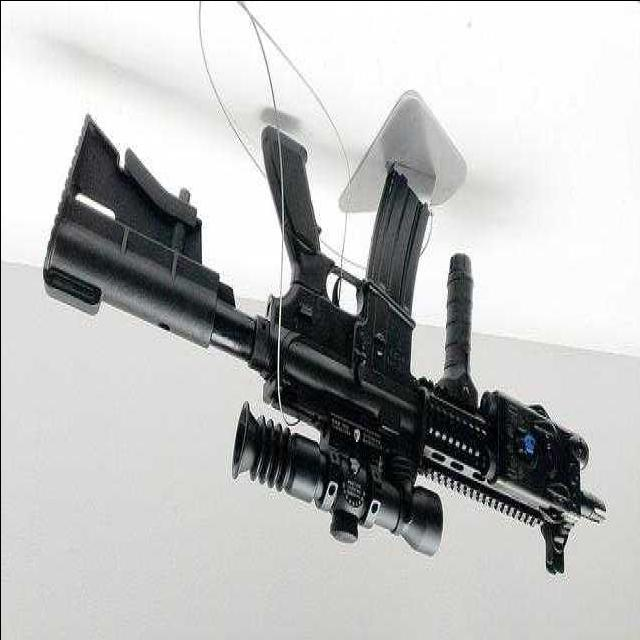heavyweapon: (30, 79, 610, 570)
